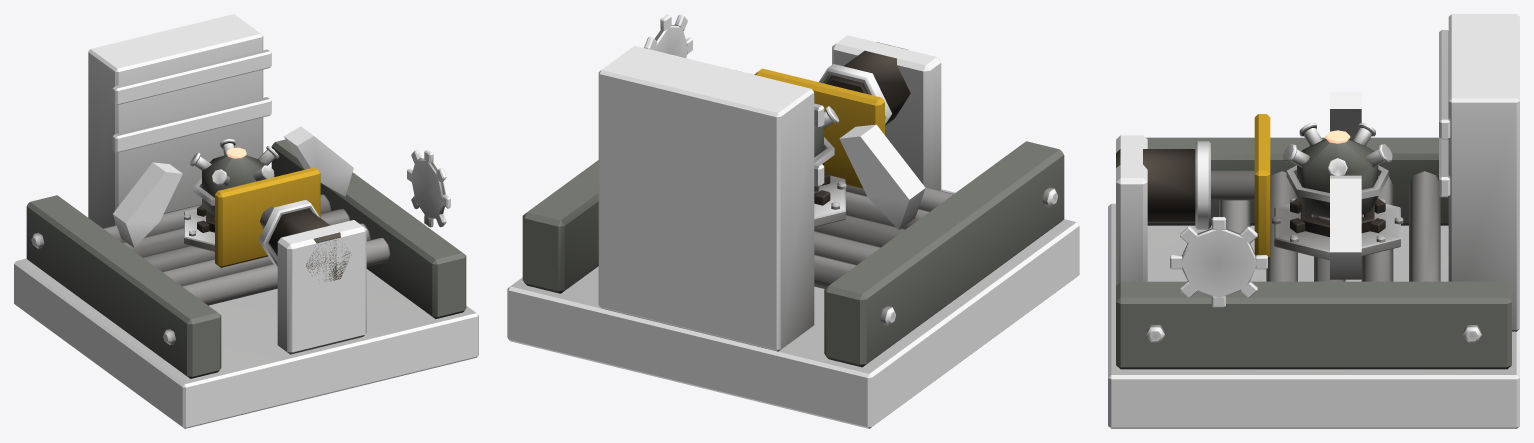
The model's file is R4X_ExplosiveTrapDeployer_LOD1.fbx.
The picture shows the model from 3 angles, left to right: view 1: azimuth 30°, elevation 25°; view 2: azimuth 150°, elevation 25°; view 3: azimuth 270°, elevation 25°; orthographic projection. The views are drawn at different scales.
Visible parts, largest first — view 1: R4X_ExplosiveTrapDeployer_LOD1; view 2: R4X_ExplosiveTrapDeployer_LOD1; view 3: R4X_ExplosiveTrapDeployer_LOD1.
Part boxes in pixels (box(x1,y1,x2,y2)): R4X_ExplosiveTrapDeployer_LOD1: box(14, 14, 478, 428); R4X_ExplosiveTrapDeployer_LOD1: box(507, 14, 1079, 428); R4X_ExplosiveTrapDeployer_LOD1: box(1108, 14, 1519, 428).
Size of the model in its own units: 0.52 by 0.4 by 0.52.
